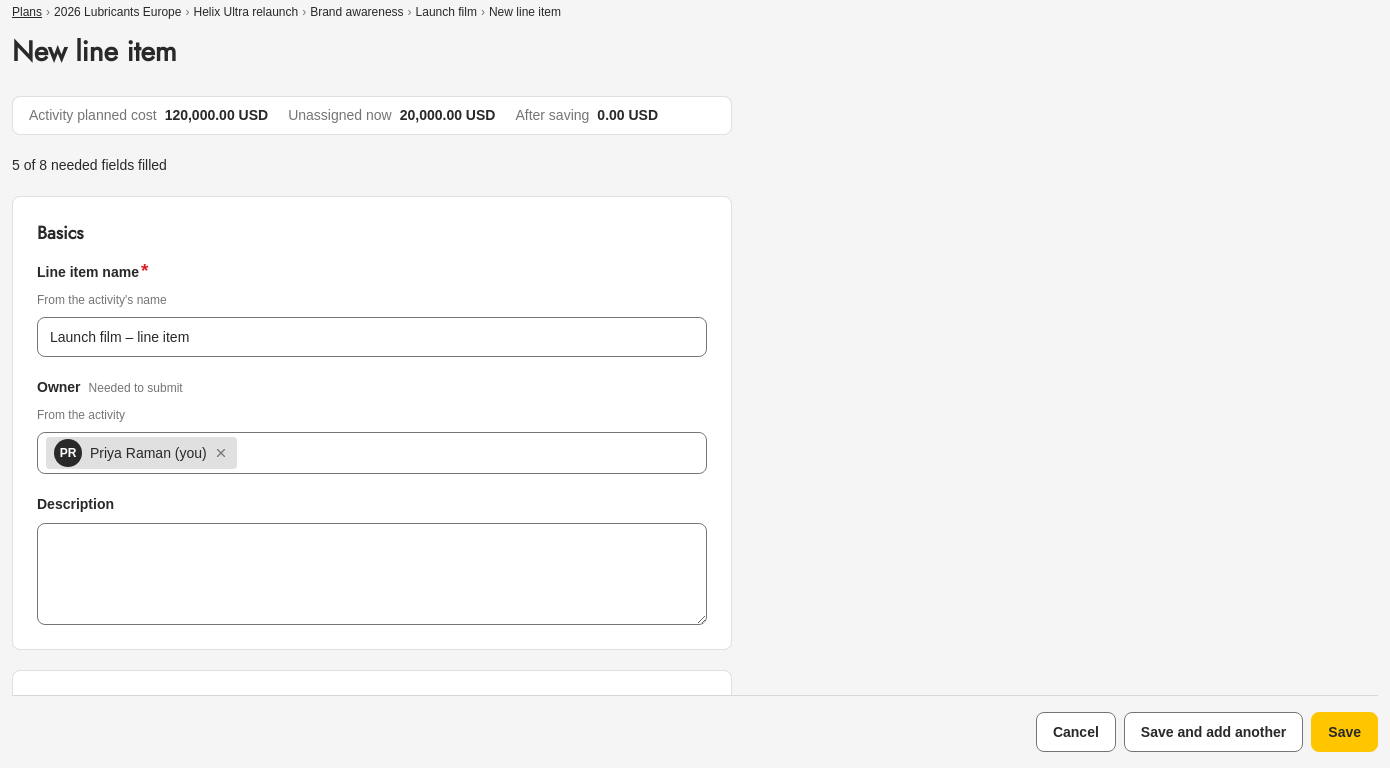
Test: LineItemCreatePage, saving (US2) › shows every problem at once and saves nothing (scenario 5, FR-009)
The width and height of the screenshot is (1390, 768).
Clear the field labelled "Line item name": (372, 337) left=37, top=317, right=707, bottom=357
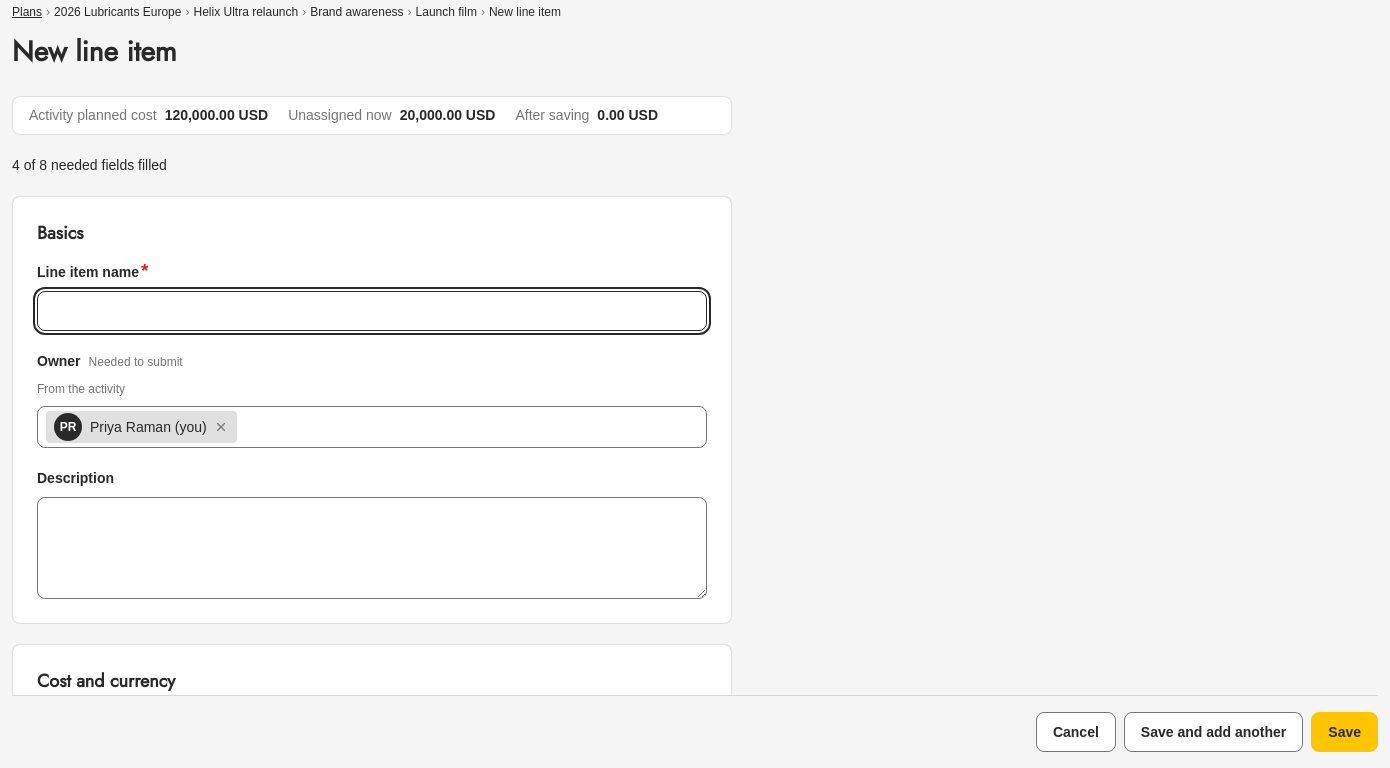
Click the button "Save": click(1345, 732) left=1311, top=712, right=1378, bottom=752
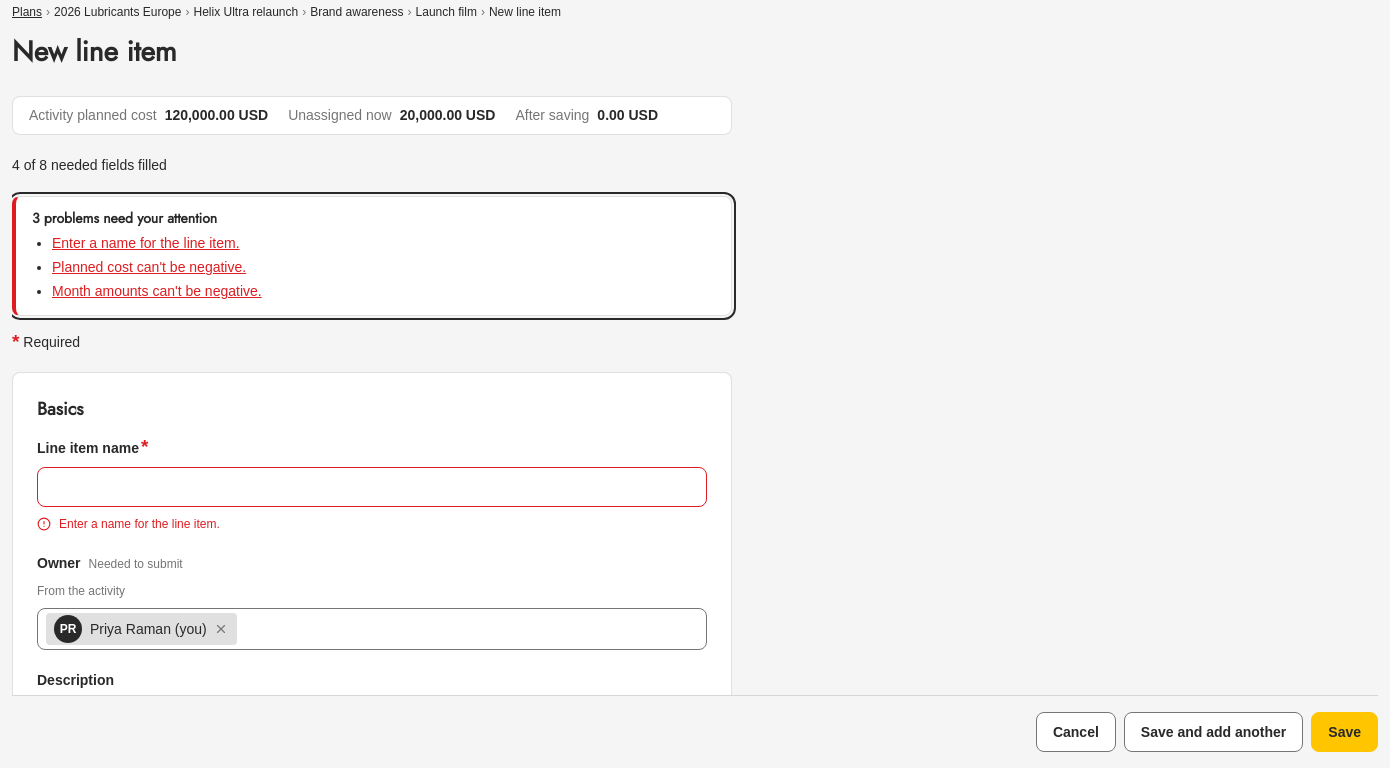
Check: the heading "3 problems need your attention" is shown, box left=32, top=208, right=217, bottom=228
Check: the number of links "Enter a name for the line item." is 2, box left=52, top=231, right=240, bottom=255; left=37, top=517, right=220, bottom=531
Check: the number of links "Planned cost can't be negative." is 2
